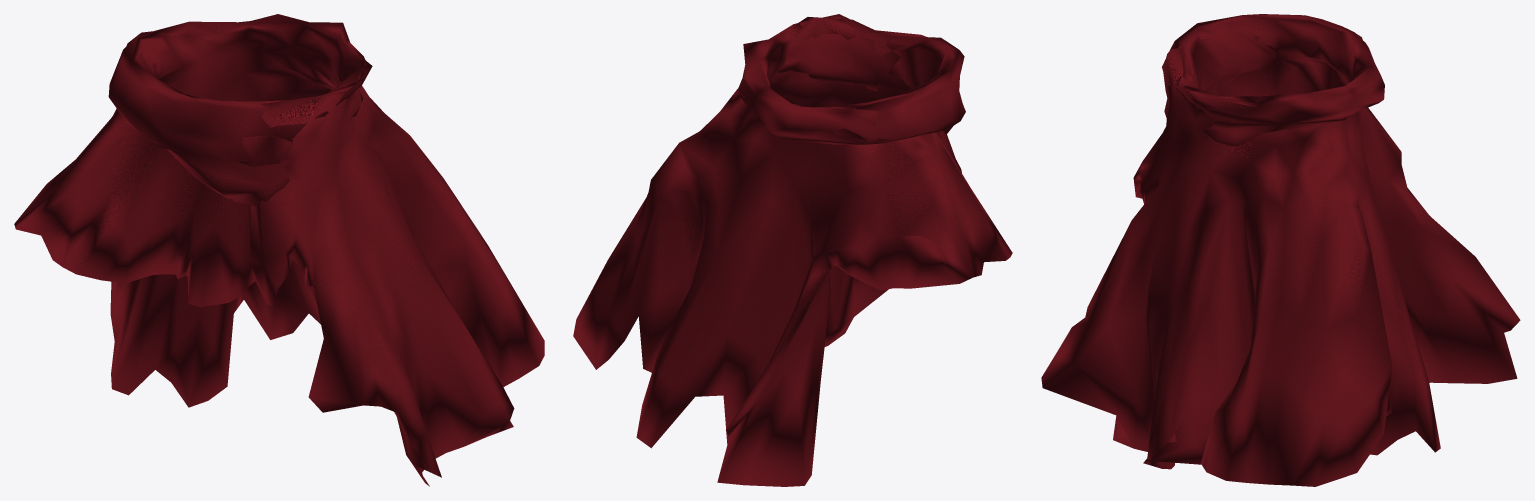
The model's file is shale.fbx.
The picture shows the model from 3 angles, left to right: view 1: azimuth 30°, elevation 25°; view 2: azimuth 150°, elevation 25°; view 3: azimuth 270°, elevation 25°; orthographic projection. The views are drawn at different scales.
Visible parts, largest first — view 1: IMPORT; view 2: IMPORT; view 3: IMPORT.
Boxes of the visible parts, <box> form: IMPORT: <box>14,14,544,486</box>; IMPORT: <box>573,14,1012,486</box>; IMPORT: <box>1041,14,1520,486</box>.
Size of the model in its own units: 8107 by 6567 by 8003.
1 material, 1 textured.
